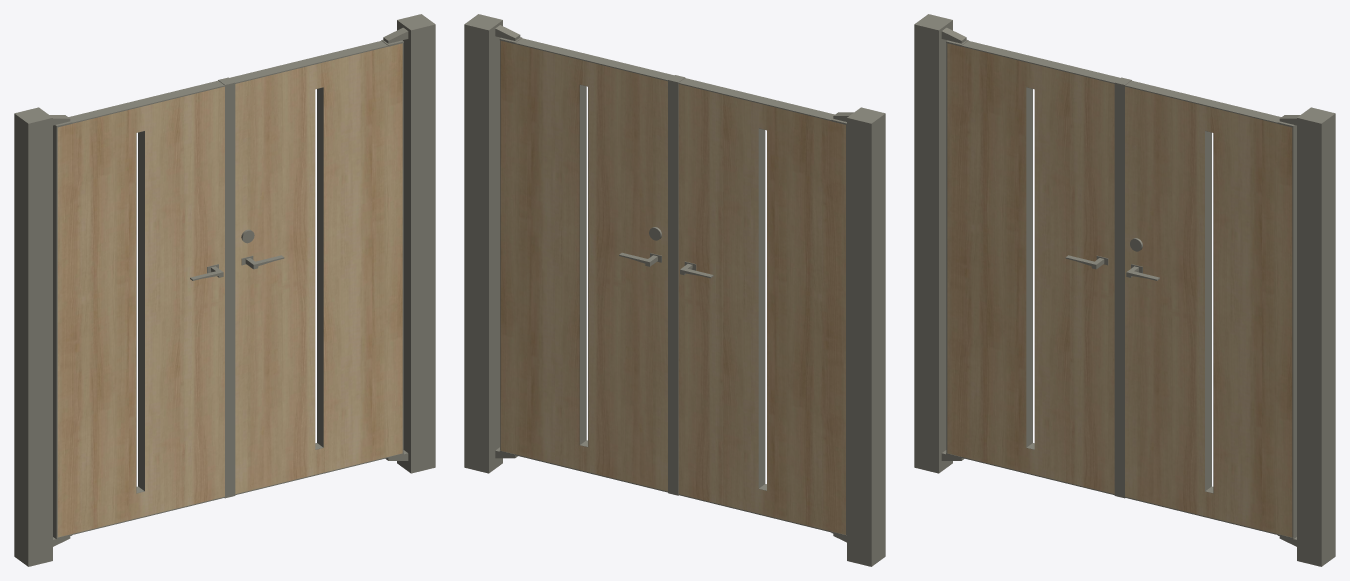
File: 07-07-16_actyoak.fbx
3 renders of one model, left to right at view 1: azimuth 30°, elevation 25°; view 2: azimuth 150°, elevation 25°; view 3: azimuth 330°, elevation 25°, orthographic.
Visible parts, largest first — view 1: 07-07-16actyoak; view 2: 07-07-16actyoak; view 3: 07-07-16actyoak.
Part boxes in pixels (x1,y1,x2,y2): 07-07-16actyoak: (14,14,435,566); 07-07-16actyoak: (464,14,885,566); 07-07-16actyoak: (914,14,1335,566).
Bounding box in the file's own units: 165 × 172 × 16.7.
2 materials, 2 textured.
